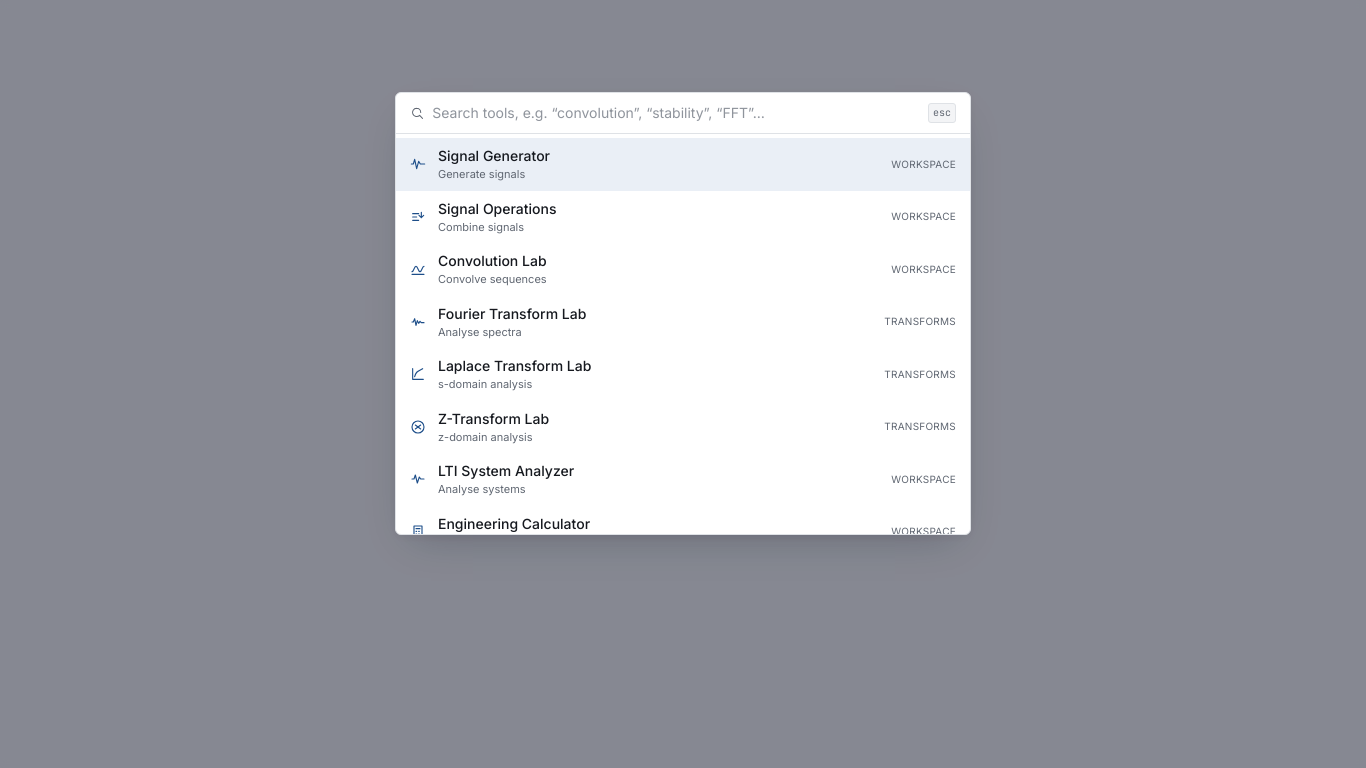
command menu › reports when nothing matches
Type "zzzz" into the dropdown named "Search modules" at coordinates (676, 113), box top-left (432, 103), bottom-right (920, 123)
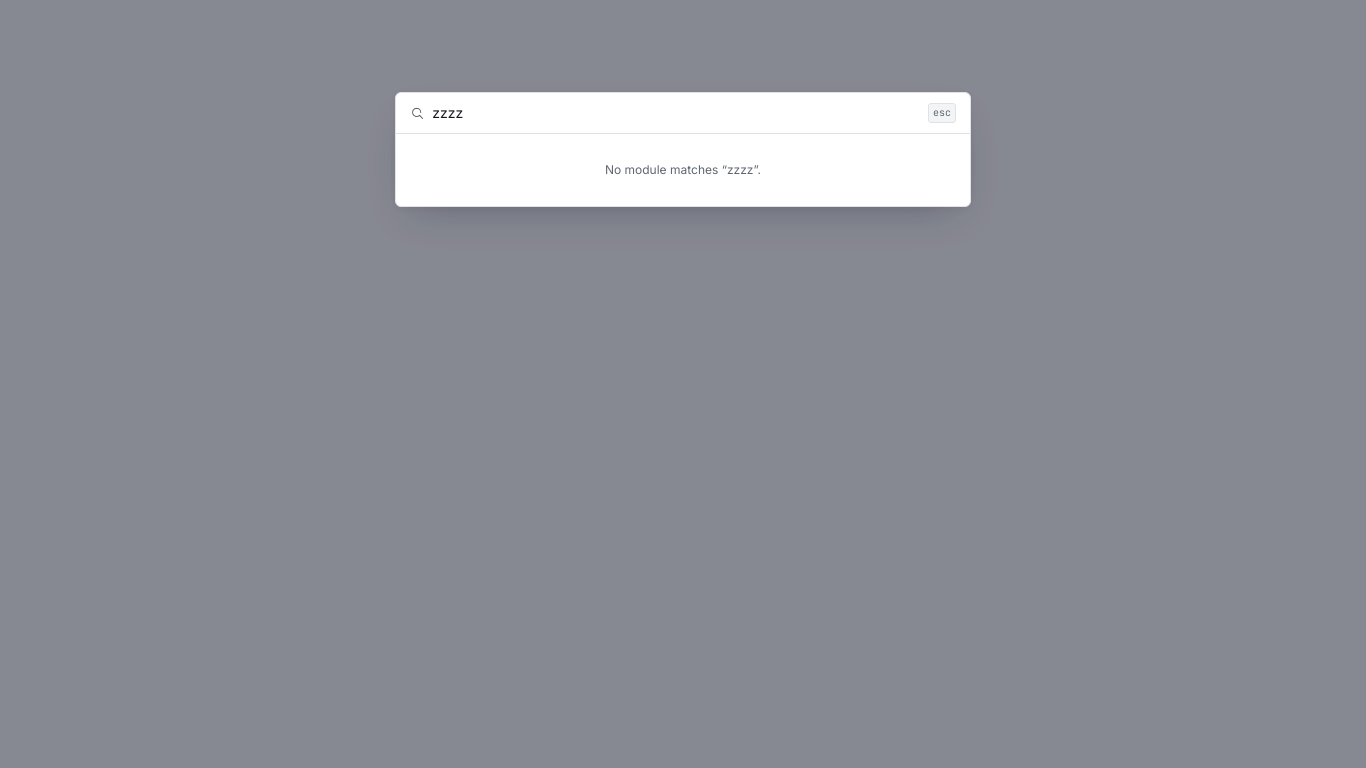
Now the list item "No module matches “zzzz”." is shown, box top-left (605, 162), bottom-right (761, 177)
